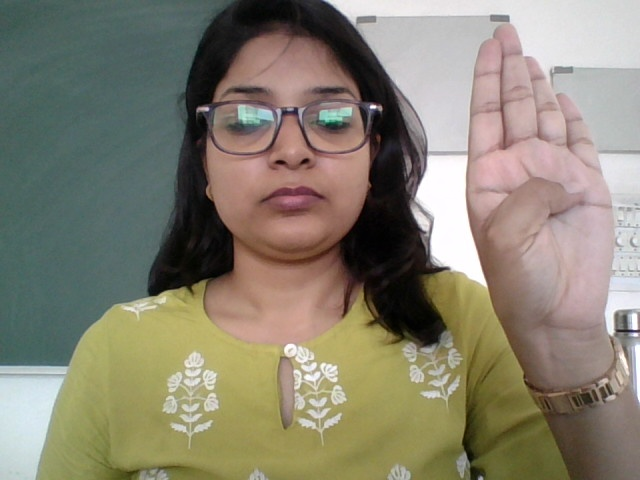B: (466, 20, 630, 362)
